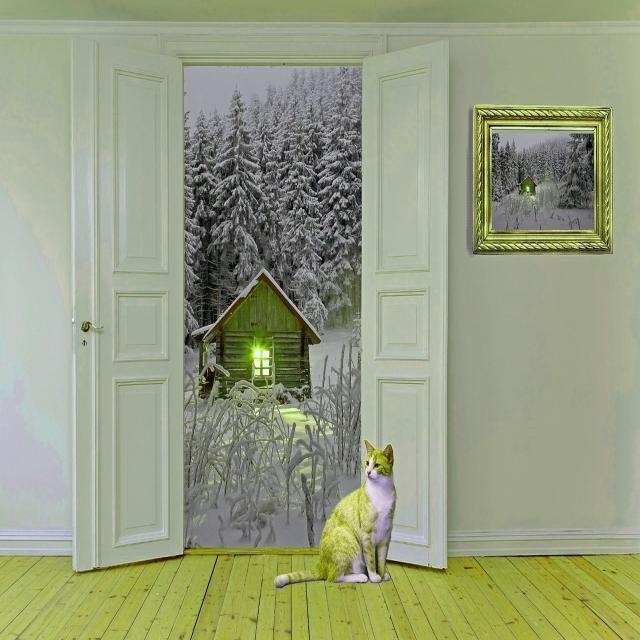door: (71, 37, 185, 571)
